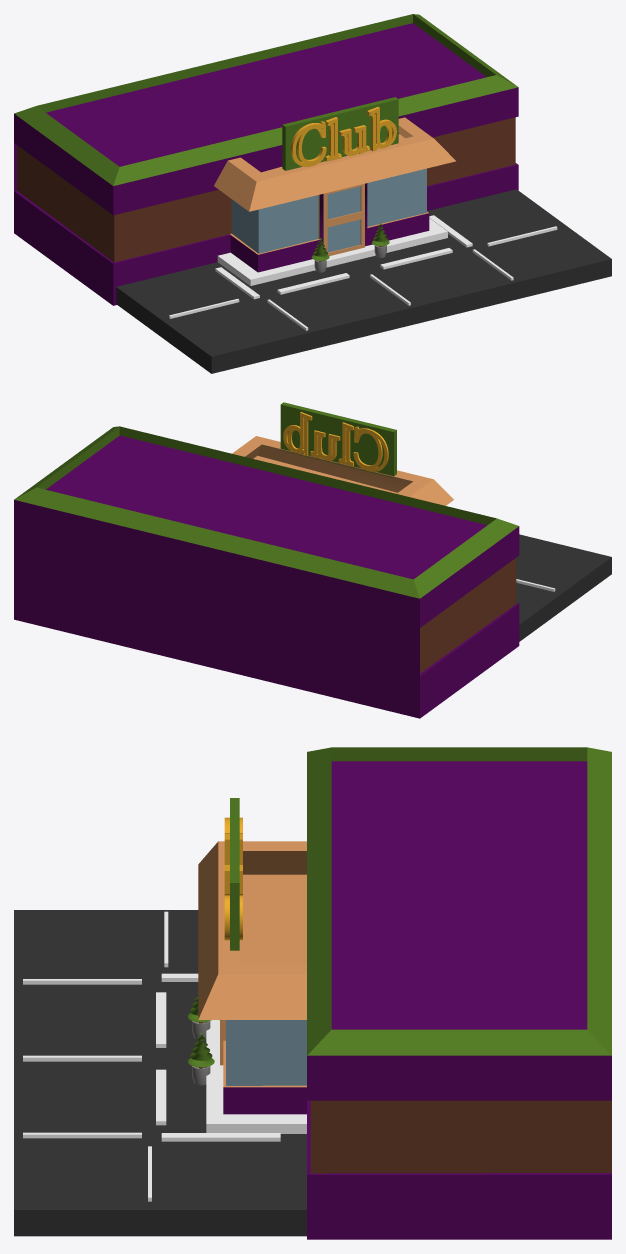
The model's file is 79126a77-6469-4bfb-a402-51244ba9106d.glb.
The picture shows the model from 3 angles, top to bottom: view 1: azimuth 30°, elevation 25°; view 2: azimuth 150°, elevation 25°; view 3: azimuth 270°, elevation 25°; orthographic projection. The views are drawn at different scales.
Visible parts, largest first — view 1: Box001; view 2: Box001; view 3: Box001.
Boxes of the visible parts, left/top/right/bottom form: Box001: left=14, top=14, right=611, bottom=373; Box001: left=14, top=402, right=611, bottom=718; Box001: left=14, top=747, right=611, bottom=1239.
Bounding box in the file's own units: 201 × 76.59 × 167.
